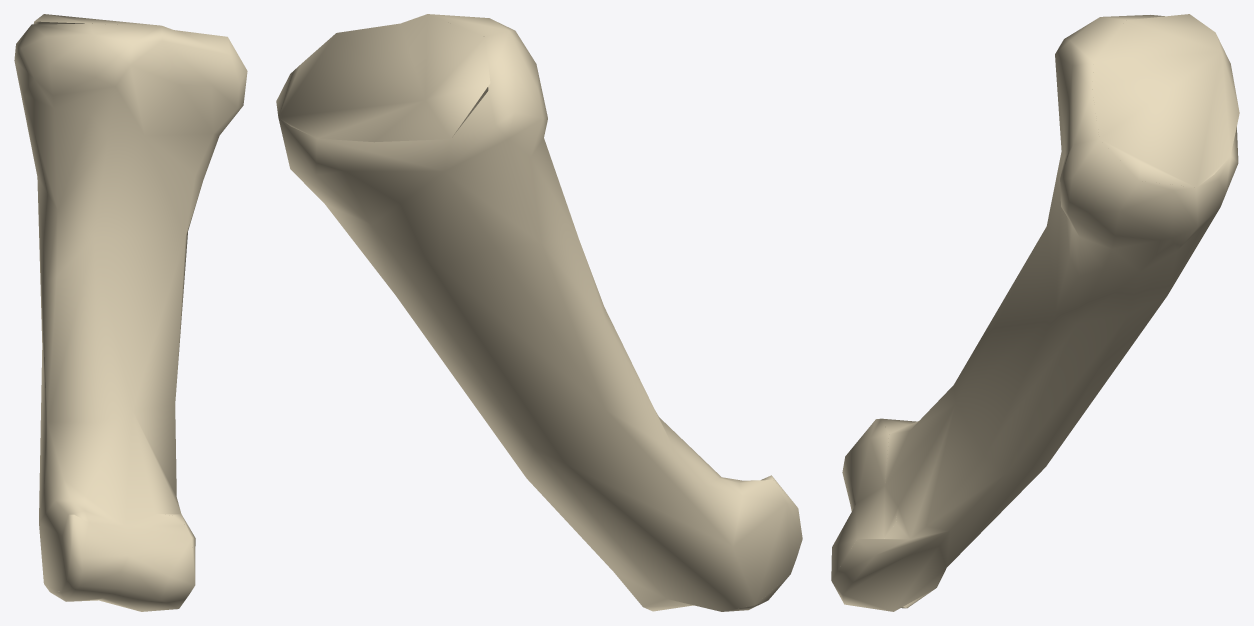
Rendered from esqueleto-proximal-phalanx-of-second-finger-of-hand-r.glb.
The picture shows the model from 3 angles, left to right: view 1: azimuth 30°, elevation 25°; view 2: azimuth 150°, elevation 25°; view 3: azimuth 270°, elevation 25°; orthographic projection. The views are drawn at different scales.
Parts seen in each view (by area): view 1: Proximal phalanx of second finger of hand.r; view 2: Proximal phalanx of second finger of hand.r; view 3: Proximal phalanx of second finger of hand.r.
Part boxes in pixels (x1=…): Proximal phalanx of second finger of hand.r: x1=14, y1=14, x2=247, y2=611; Proximal phalanx of second finger of hand.r: x1=276, y1=14, x2=802, y2=611; Proximal phalanx of second finger of hand.r: x1=831, y1=14, x2=1239, y2=611.
Bounding box in the file's own units: 0.0227 × 0.0389 × 0.0236.
